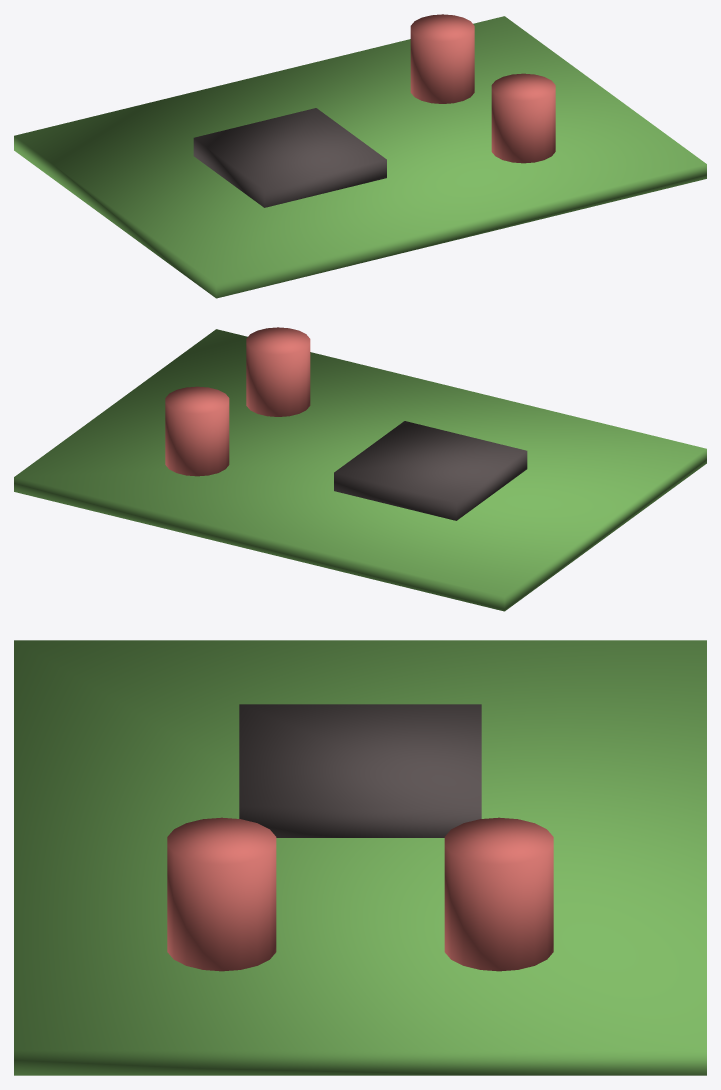
The model's file is circuit_board.glb.
The picture shows the model from 3 angles, top to bottom: view 1: azimuth 30°, elevation 25°; view 2: azimuth 150°, elevation 25°; view 3: azimuth 270°, elevation 25°; orthographic projection. The views are drawn at different scales.
Visible parts, largest first — view 1: board, chip, c2, c1; view 2: board, chip, c1, c2; view 3: board, chip, c1, c2.
Part boxes in pixels (box(x1,y1,x2,y2)): board: box(14, 16, 706, 298); chip: box(193, 108, 386, 207); c2: box(410, 14, 474, 103); c1: box(491, 73, 555, 163); board: box(14, 329, 706, 611); chip: box(334, 421, 527, 520); c1: box(246, 327, 310, 416); c2: box(165, 386, 229, 476); board: box(14, 640, 706, 1075); chip: box(239, 704, 481, 837); c1: box(167, 817, 276, 971); c2: box(444, 817, 553, 971).
Bounding box in the file's own units: 1.4 × 0.21 × 1.
